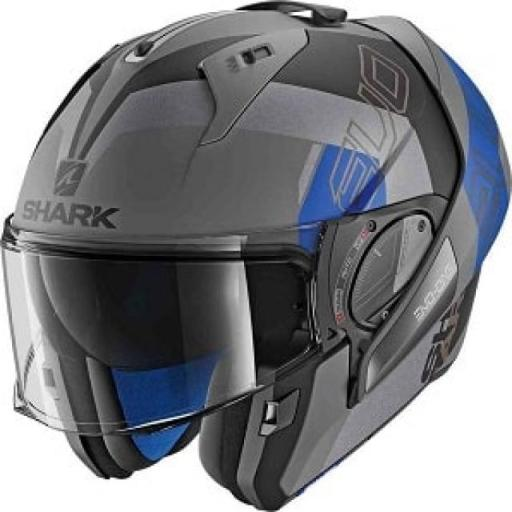Helmet: (3, 2, 509, 509)
